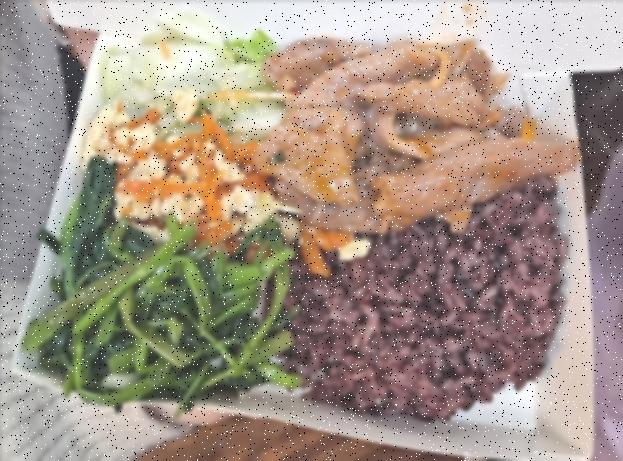box: (0, 51, 605, 461)
purple rice: (282, 175, 562, 419)
side dish: (37, 222, 284, 400), (88, 109, 274, 236), (100, 18, 280, 127)
thai pork: (272, 34, 578, 240)
